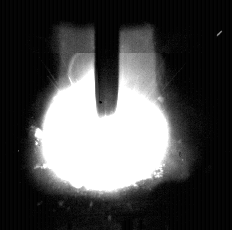arame: (96, 0, 120, 117)
poca: (41, 0, 170, 230)
